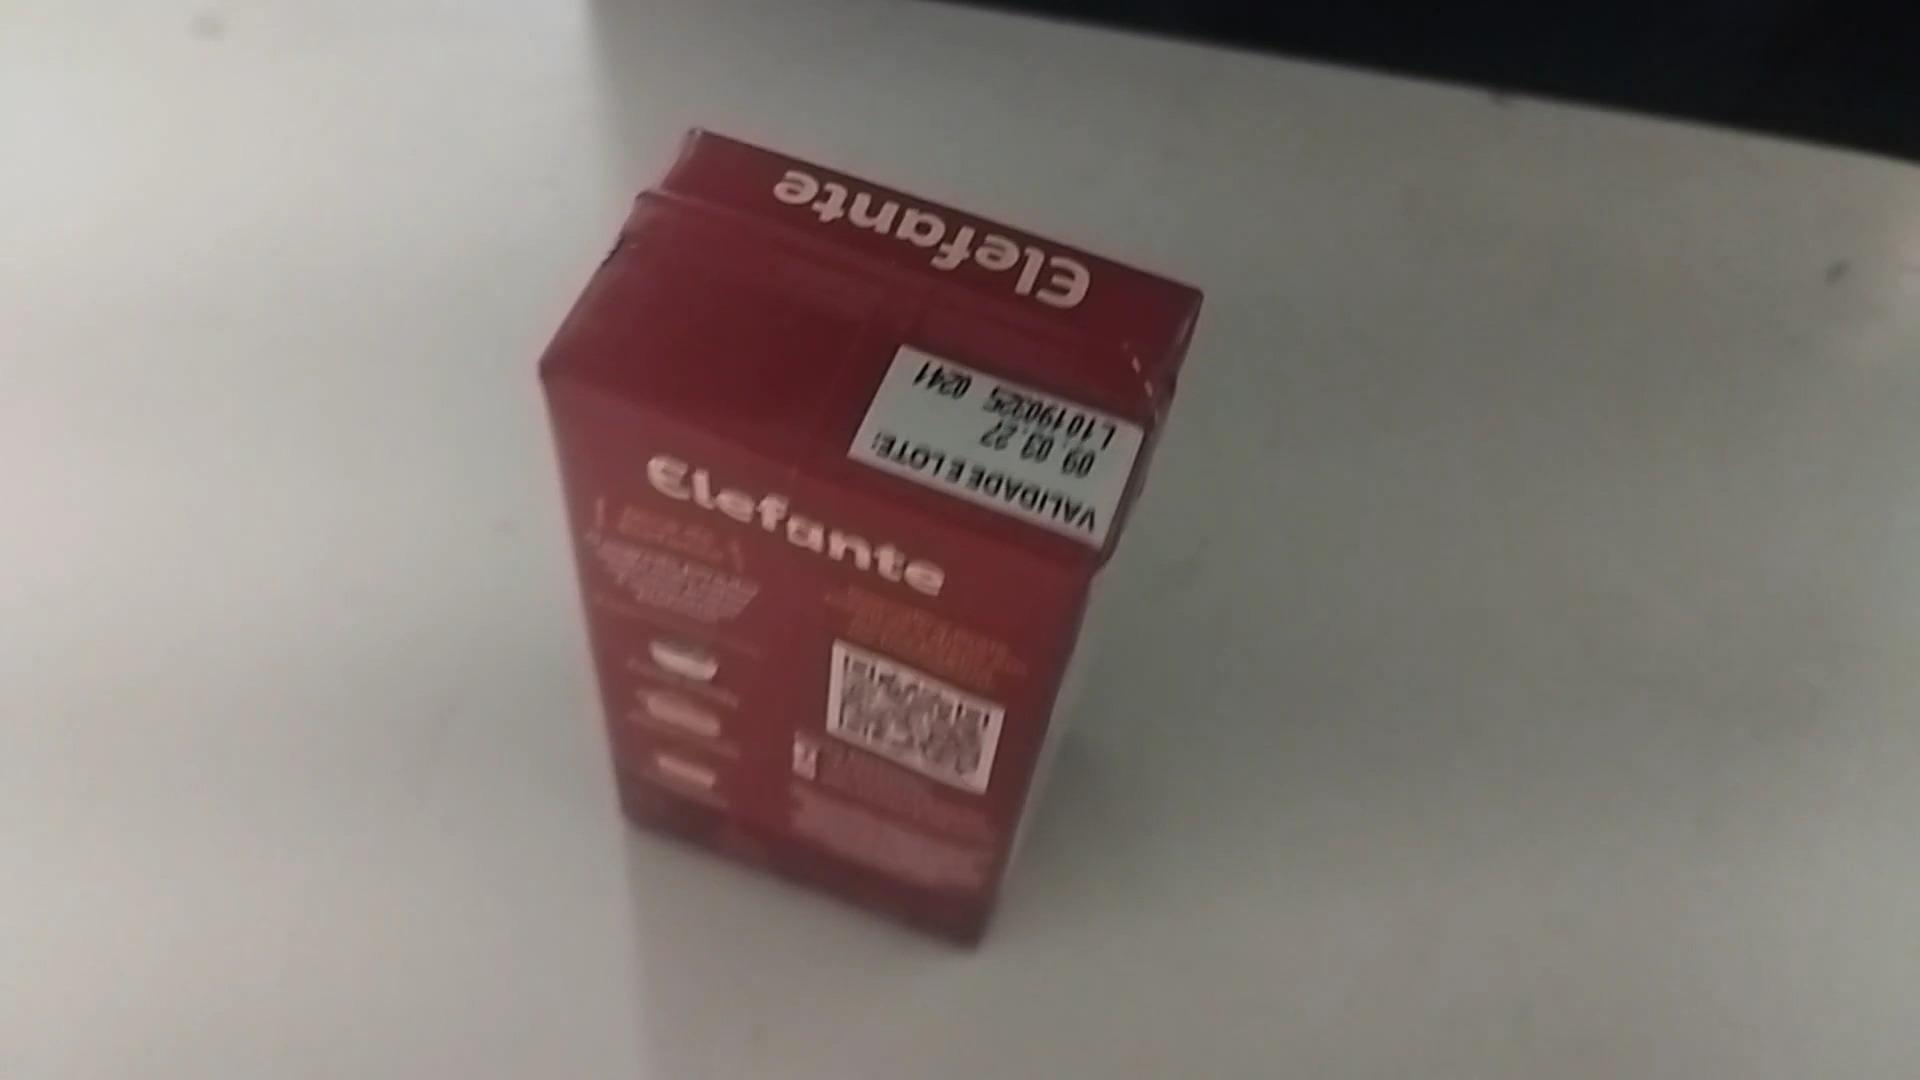tomate: (546, 119, 1218, 982)
